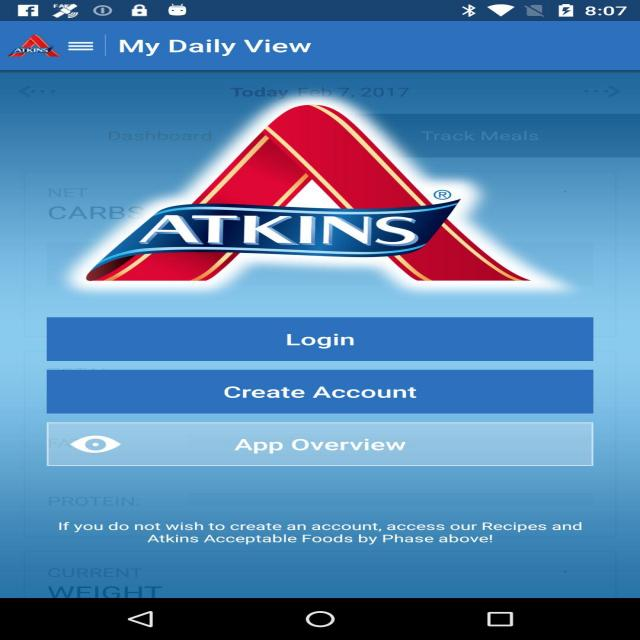button: (44, 303, 640, 499)
image: (33, 93, 570, 292)
